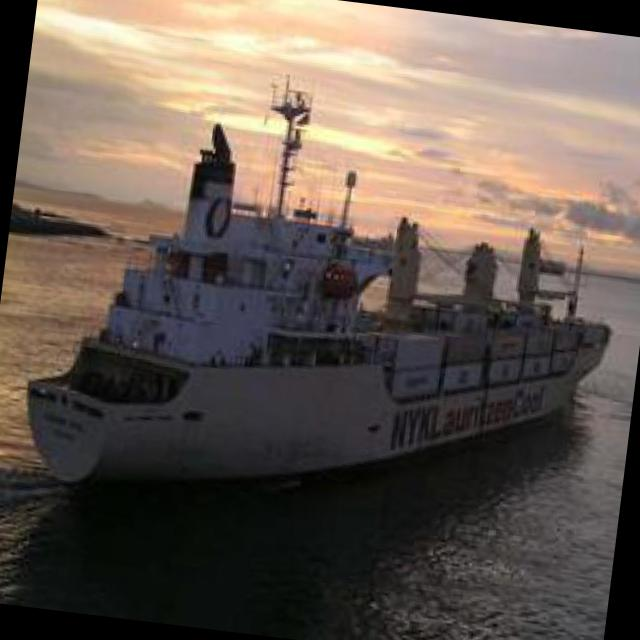boat: (25, 128, 630, 488)
